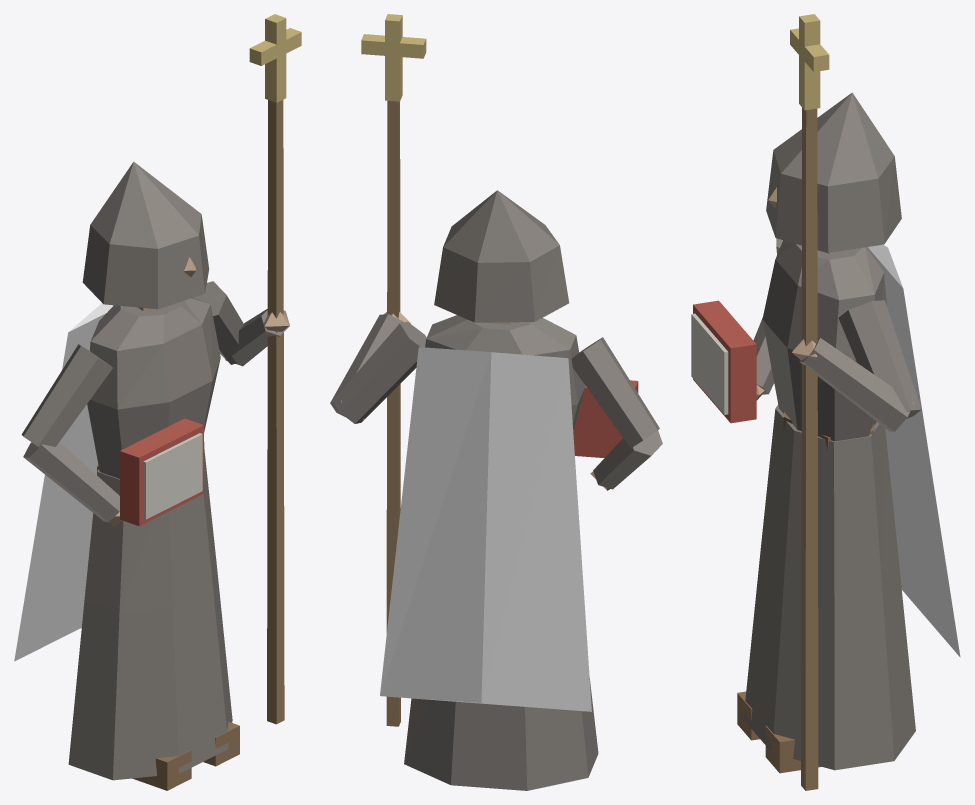
File: missionary.glb
3 renders of one model, left to right at view 1: azimuth 30°, elevation 25°; view 2: azimuth 150°, elevation 25°; view 3: azimuth 270°, elevation 25°, orthographic. The views are drawn at different scales.
Visible parts, largest first — view 1: LOD0; view 2: LOD0; view 3: LOD0.
Boxes of the visible parts, x1,y1,x2,y2 form: LOD0: (14,14,301,790); LOD0: (330,14,662,790); LOD0: (691,14,960,790).
Size of what is drawn, in the model's own units: 0.5232 by 1.25 by 0.3902.
